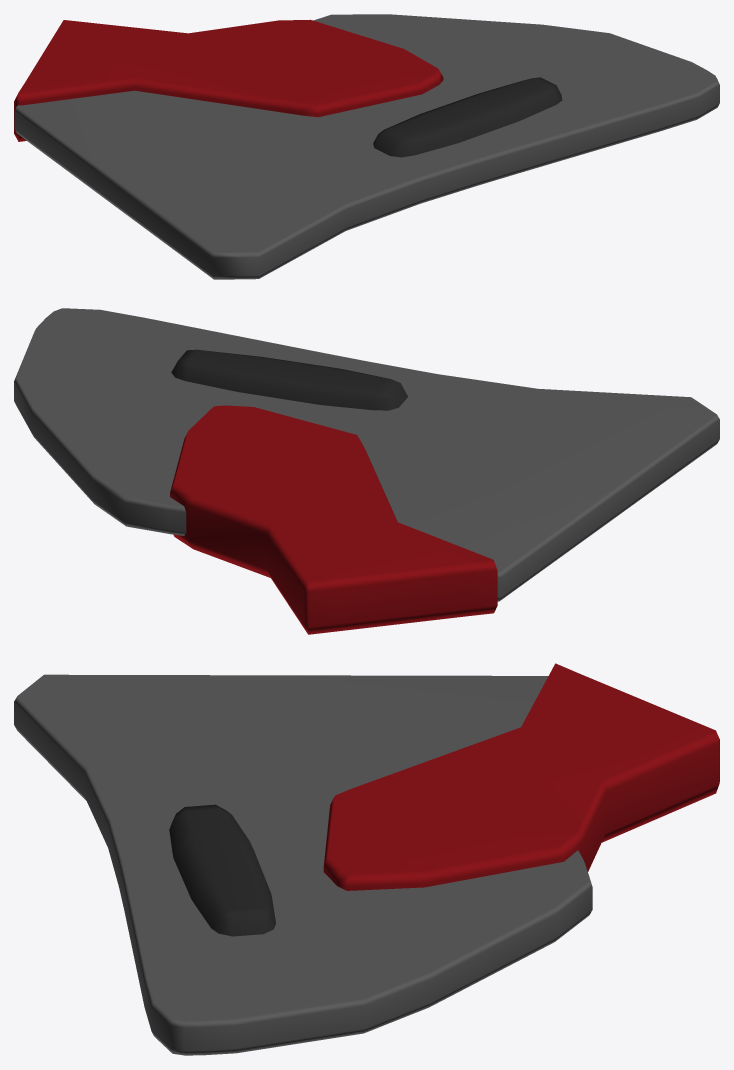
Rendered from Spaceship_main_02_Wing_L.fbx.
3 views of the same model, one above another, from view 1: azimuth 30°, elevation 25°; view 2: azimuth 150°, elevation 25°; view 3: azimuth 270°, elevation 25° (orthographic). The views are drawn at different scales.
Visible parts, largest first — view 1: Spaceship_main_02_Wing_L; view 2: Spaceship_main_02_Wing_L; view 3: Spaceship_main_02_Wing_L.
Part boxes in pixels (x1=…): Spaceship_main_02_Wing_L: x1=14, y1=14, x2=719, y2=279; Spaceship_main_02_Wing_L: x1=14, y1=308, x2=719, y2=634; Spaceship_main_02_Wing_L: x1=14, y1=663, x2=719, y2=1055.
Bounding box in the file's own units: 251 × 21.99 × 215.
